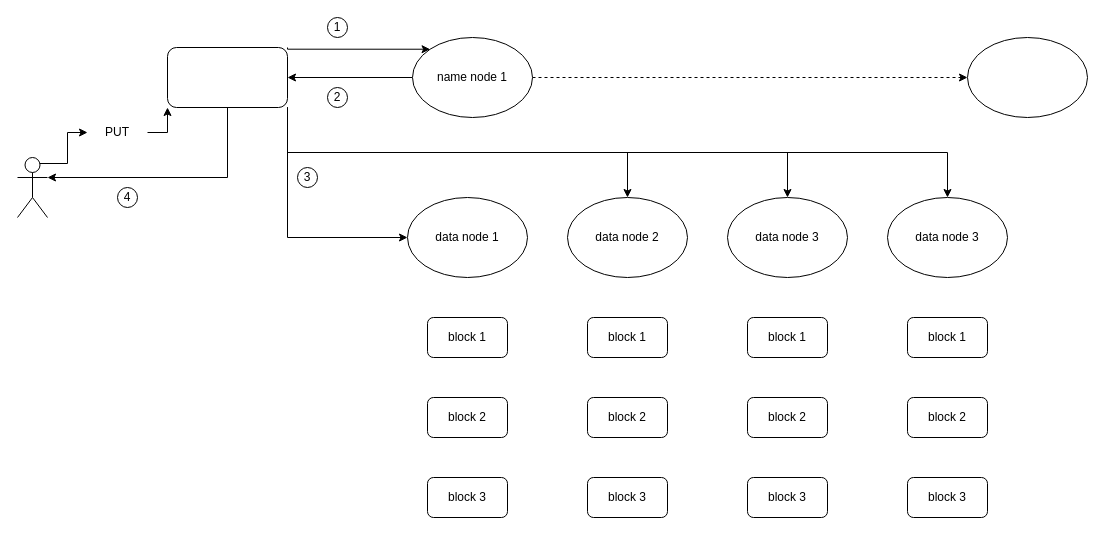
Some shapes in this 1105 by 535 pixel diagram are drawn without their labels. Here are the shapes that lost their labels. From the top down, the centre of each, then its label:
At pixel 227 77: "client lourd".
At pixel 1027 77: "name node 2".
At pixel 32 187: "Actor".
